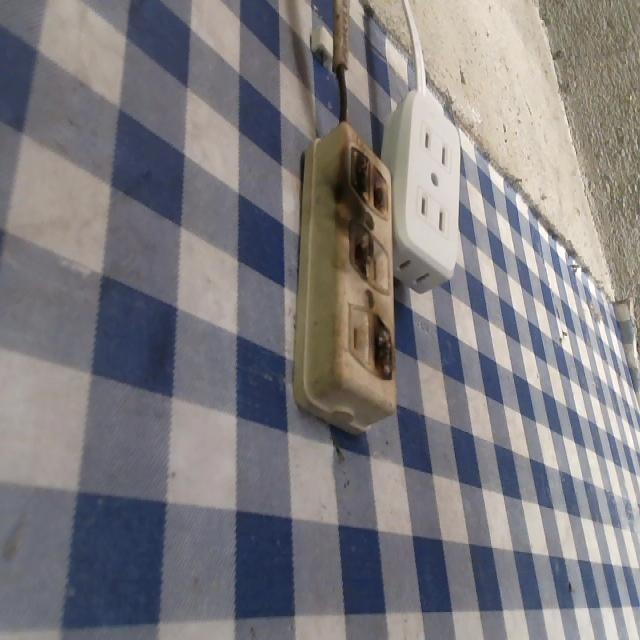-: (338, 139, 402, 225), (363, 298, 398, 382), (340, 214, 376, 290)
